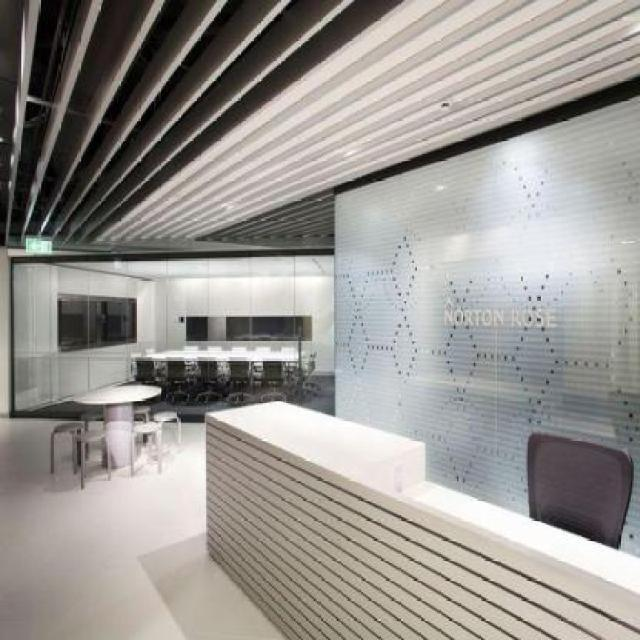frontdesk: (184, 381, 639, 640)
